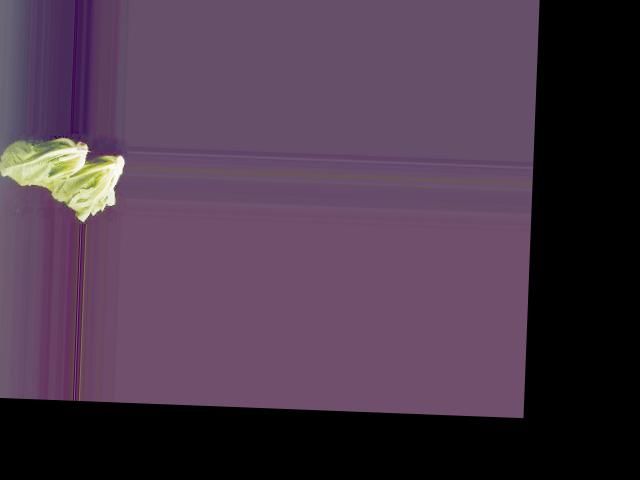lettuce: (35, 142, 125, 222)
